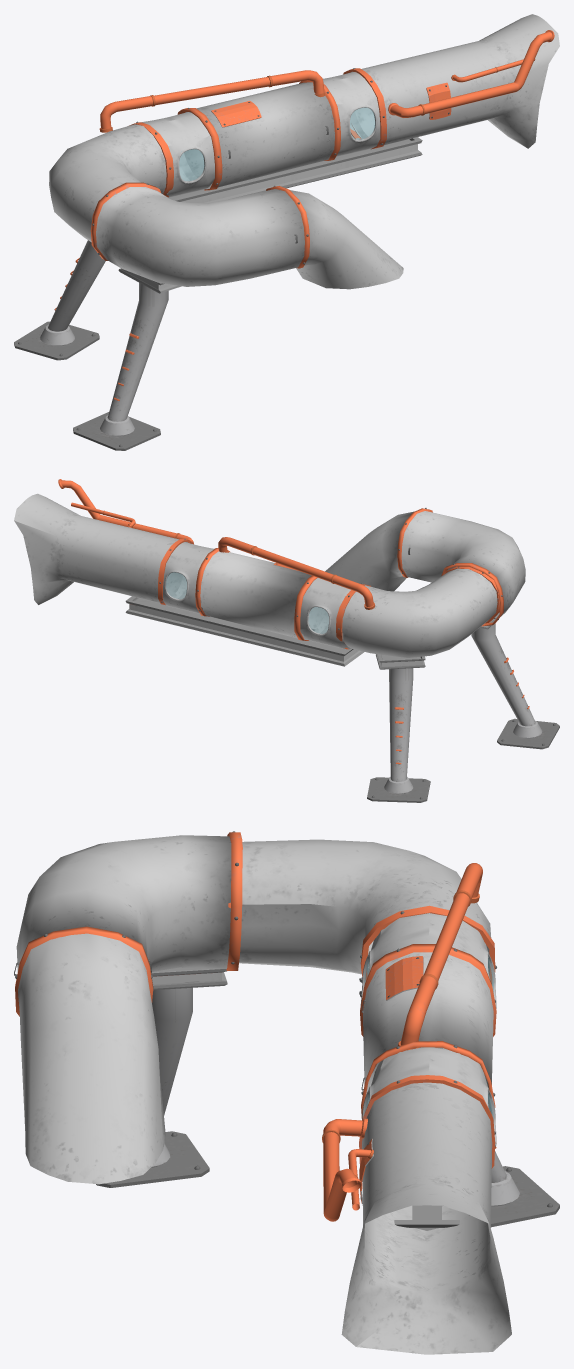
The model's file is Station_Tunnels.fbx.
3 views of the same model, one above another, from view 1: azimuth 30°, elevation 25°; view 2: azimuth 150°, elevation 25°; view 3: azimuth 270°, elevation 25° (orthographic). The views are drawn at different scales.
Parts seen in each view (by area): view 1: Station_Tunnel03.003, Station_Tunnel00.003, Station_Tunnel01.003, Station_Tunnel02.003, Station_Leg05.003, Station_UnderPlat00.003, Station_Leg04.003, Station_TunWindow01.003, Station_TunWindow00.003, Station_Pipe02.003, Station_Panel00.003, Station_TunnelWindow00.003 (+2 smaller); view 2: Station_Tunnel00.003, Station_Tunnel03.003, Station_Tunnel02.003, Station_Tunnel01.003, Station_Leg04.003, Station_UnderPlat00.003, Station_Leg05.003, Station_TunWindow01.003, Station_TunWindow00.003, Station_Pipe02.003, Station_TunnelWindow00.003, Station_TunnelWindow01.003; view 3: Station_Tunnel03.003, Station_Tunnel00.003, Station_Tunnel02.003, Station_Tunnel01.003, Station_Leg05.003, Station_TunWindow00.003, Station_Pipe02.003, Station_TunWindow01.003, Station_Leg04.003, Station_Panel00.003, Station_UnderPlat00.003.
Boxes of the visible parts, bbox=[...] form: Station_Tunnel03.003: bbox=[90, 182, 403, 289]; Station_Tunnel00.003: bbox=[343, 14, 559, 149]; Station_Tunnel01.003: bbox=[177, 80, 340, 190]; Station_Tunnel02.003: bbox=[49, 121, 173, 242]; Station_Leg05.003: bbox=[73, 268, 181, 450]; Station_UnderPlat00.003: bbox=[169, 137, 422, 202]; Station_Leg04.003: bbox=[14, 240, 105, 360]; Station_TunWindow01.003: bbox=[140, 112, 214, 197]; Station_TunWindow00.003: bbox=[323, 72, 380, 156]; Station_Pipe02.003: bbox=[99, 70, 324, 132]; Station_Panel00.003: bbox=[211, 100, 261, 127]; Station_TunnelWindow00.003: bbox=[350, 108, 374, 139]; Station_Tunnel00.003: bbox=[14, 479, 193, 605]; Station_Tunnel03.003: bbox=[325, 508, 525, 626]; Station_Tunnel02.003: bbox=[336, 566, 499, 657]; Station_Tunnel01.003: bbox=[195, 548, 325, 640]; Station_Leg04.003: bbox=[367, 654, 430, 802]; Station_UnderPlat00.003: bbox=[125, 596, 364, 666]; Station_Leg05.003: bbox=[471, 623, 559, 749]; Station_TunWindow01.003: bbox=[300, 578, 351, 649]; Station_TunWindow00.003: bbox=[162, 542, 214, 613]; Station_Pipe02.003: bbox=[218, 537, 375, 609]; Station_TunnelWindow00.003: bbox=[166, 572, 186, 598]; Station_TunnelWindow01.003: bbox=[308, 607, 330, 633]; Station_Tunnel03.003: bbox=[14, 831, 242, 1184]; Station_Tunnel00.003: bbox=[322, 1075, 511, 1354]; Station_Tunnel02.003: bbox=[228, 839, 496, 983]; Station_Tunnel01.003: bbox=[360, 944, 496, 1120]; Station_Leg05.003: bbox=[96, 967, 227, 1187]; Station_TunWindow00.003: bbox=[362, 1047, 496, 1146]; Station_Pipe02.003: bbox=[398, 863, 482, 1050]; Station_TunWindow01.003: bbox=[360, 913, 496, 1049]; Station_Leg04.003: bbox=[359, 977, 559, 1227]; Station_Panel00.003: bbox=[385, 956, 423, 1000]; Station_UnderPlat00.003: bbox=[394, 1047, 459, 1230].
Bounding box in the file's own units: 51.6 × 20.91 × 27.3.
